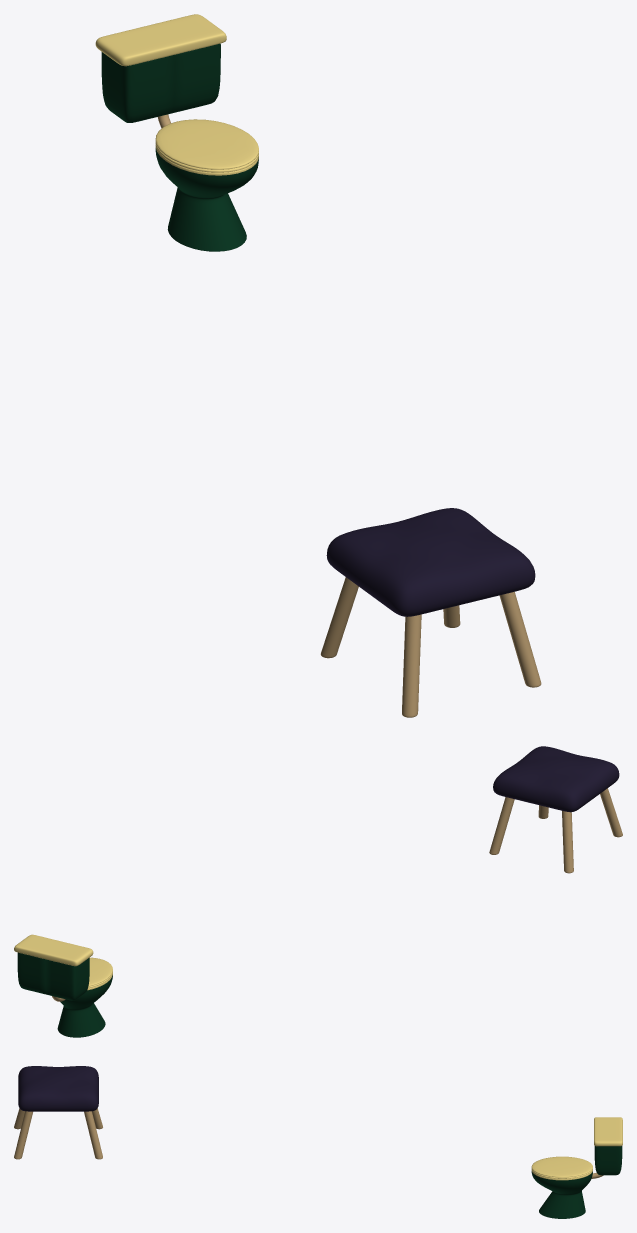
Rendered from MasterBathroomMovableObjects.fbx.
3 views of the same model, one above another, from view 1: azimuth 30°, elevation 25°; view 2: azimuth 150°, elevation 25°; view 3: azimuth 270°, elevation 25° (orthographic). The views are drawn at different scales.
Visible parts, largest first — view 1: MasterBathroom_ToiletBase.001, MasterBathroom_Stool.001; view 2: MasterBathroom_Stool.001, MasterBathroom_ToiletBase.001; view 3: MasterBathroom_Stool.001, MasterBathroom_ToiletBase.001.
Boxes of the visible parts, box(x1,y1,x2,y2) form: MasterBathroom_ToiletBase.001: box(95, 14, 258, 251); MasterBathroom_Stool.001: box(320, 508, 541, 717); MasterBathroom_Stool.001: box(489, 746, 622, 873); MasterBathroom_ToiletBase.001: box(14, 934, 112, 1037); MasterBathroom_Stool.001: box(14, 1066, 102, 1159); MasterBathroom_ToiletBase.001: box(531, 1117, 622, 1218).
Bounding box in the file's own units: 187 × 72.83 × 489.
